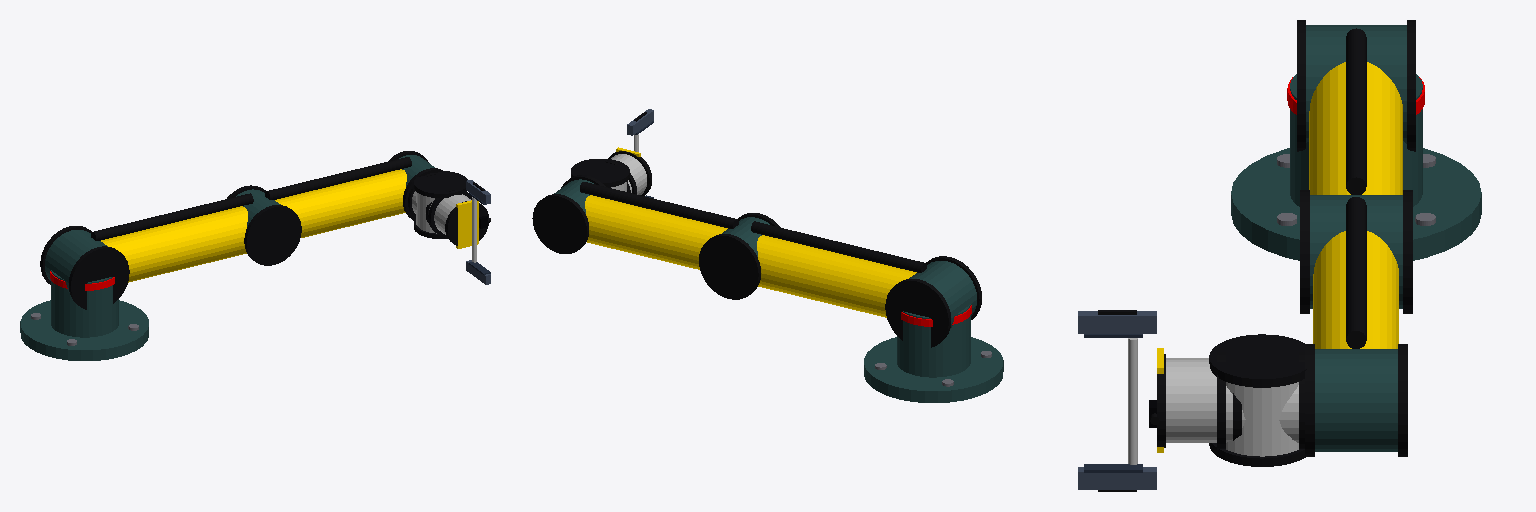
The robot description file, URDF, robot "hydraulic_arm":
<?xml version="1.0"?>
<!-- generated by sim/gazebo_arm/gazebo_arm/gen_urdf.py from the numerical twin DH/mass/inertia; do not edit by hand -->
<robot name="hydraulic_arm">
  <link name="base_link">
    <inertial>
      <origin xyz="0 0 0.0900" rpy="0 0 0"/>
      <mass value="20.000"/>
      <inertia ixx="0.20000" ixy="0" ixz="0" iyy="0.20000" iyz="0" izz="0.30000"/>
    </inertial>
    <visual>
      <origin xyz="0 0 0.015" rpy="0 0 0"/>
      <geometry><cylinder radius="0.160" length="0.0300"/></geometry>
      <material name="base"><color rgba="0.184 0.310 0.310 1"/></material>
    </visual>
    <visual>
      <origin xyz="0 0 0.0900" rpy="0 0 0"/>
      <geometry><cylinder radius="0.085" length="0.1800"/></geometry>
      <material name="base"><color rgba="0.184 0.310 0.310 1"/></material>
    </visual>
    <visual>
      <origin xyz="0 0 0.1680" rpy="0 0 0"/>
      <geometry><cylinder radius="0.088" length="0.0180"/></geometry>
      <material name="warn"><color rgba="1.000 0.000 0.000 1"/></material>
    </visual>
    <visual>
      <origin xyz="0.0884 0.0884 0.026" rpy="0 0 0"/>
      <geometry><cylinder radius="0.013" length="0.0220"/></geometry>
      <material name="bolt"><color rgba="0.450 0.450 0.480 1"/></material>
    </visual>
    <visual>
      <origin xyz="-0.0884 0.0884 0.026" rpy="0 0 0"/>
      <geometry><cylinder radius="0.013" length="0.0220"/></geometry>
      <material name="bolt"><color rgba="0.450 0.450 0.480 1"/></material>
    </visual>
    <visual>
      <origin xyz="-0.0884 -0.0884 0.026" rpy="0 0 0"/>
      <geometry><cylinder radius="0.013" length="0.0220"/></geometry>
      <material name="bolt"><color rgba="0.450 0.450 0.480 1"/></material>
    </visual>
    <visual>
      <origin xyz="0.0884 -0.0884 0.026" rpy="0 0 0"/>
      <geometry><cylinder radius="0.013" length="0.0220"/></geometry>
      <material name="bolt"><color rgba="0.450 0.450 0.480 1"/></material>
    </visual>
    <collision>
      <origin xyz="0 0 0.0900" rpy="0 0 0"/>
      <geometry><cylinder radius="0.105" length="0.1800"/></geometry>
    </collision>
  </link>
  <joint name="joint_1" type="revolute">
    <parent link="base_link"/>
    <child link="link_1"/>
    <origin xyz="0.0000 0 0.1800" rpy="1.570796 0 0"/>
    <axis xyz="0 0 1"/>
    <limit lower="-3.1416" upper="3.1416" effort="954.9" velocity="2.0"/>
    <dynamics damping="10.0" friction="1.0"/>
  </joint>
  <link name="link_1">
    <inertial>
      <origin xyz="0.0000 0.0900 0.0000" rpy="0 0 0"/>
      <mass value="110.000"/>
      <inertia ixx="2.0000" ixy="0" ixz="0" iyy="2.0000" iyz="0" izz="3.0000"/>
    </inertial>
    <visual>
      <origin xyz="0 0 0" rpy="0 0 0"/>
      <geometry><cylinder radius="0.078" length="0.1404"/></geometry>
      <material name="joint"><color rgba="0.184 0.310 0.310 1"/></material>
    </visual>
    <visual>
      <origin xyz="0 0 0.0702" rpy="0 0 0"/>
      <geometry><cylinder radius="0.084" length="0.0120"/></geometry>
      <material name="black"><color rgba="0.090 0.090 0.100 1"/></material>
    </visual>
    <visual>
      <origin xyz="0 0 -0.0702" rpy="0 0 0"/>
      <geometry><cylinder radius="0.084" length="0.0120"/></geometry>
      <material name="black"><color rgba="0.090 0.090 0.100 1"/></material>
    </visual>
    <visual>
      <origin xyz="0.2500 0 0.0000" rpy="0 1.570796 0"/>
      <geometry><cylinder radius="0.060" length="0.5000"/></geometry>
      <material name="body"><color rgba="1.000 0.843 0.000 1"/></material>
    </visual>
    <visual>
      <origin xyz="0.2500 0.0800 0.0000" rpy="0 1.570796 0"/>
      <geometry><cylinder radius="0.013" length="0.4500"/></geometry>
      <material name="black"><color rgba="0.090 0.090 0.100 1"/></material>
    </visual>
    <collision>
      <origin xyz="0.2500 0 0.0000" rpy="0 1.570796 0"/>
      <geometry><cylinder radius="0.080" length="0.5000"/></geometry>
    </collision>
    <collision>
      <origin xyz="0 0 0" rpy="0 0 0"/>
      <geometry><sphere radius="0.080"/></geometry>
    </collision>
    <collision>
      <origin xyz="0.5000 0 0.0000" rpy="0 0 0"/>
      <geometry><sphere radius="0.080"/></geometry>
    </collision>
  </link>
  <joint name="joint_2" type="revolute">
    <parent link="link_1"/>
    <child link="link_2"/>
    <origin xyz="0.5000 0 0.0000" rpy="0.000000 0 0"/>
    <axis xyz="0 0 1"/>
    <limit lower="-3.1416" upper="3.1416" effort="1527.9" velocity="2.0"/>
    <dynamics damping="10.0" friction="1.0"/>
  </joint>
  <link name="link_2">
    <inertial>
      <origin xyz="0.2500 0.0000 0.0000" rpy="0 0 0"/>
      <mass value="55.000"/>
      <inertia ixx="0.3000" ixy="0" ixz="0" iyy="1.1460" iyz="0" izz="1.1460"/>
    </inertial>
    <visual>
      <origin xyz="0 0 0" rpy="0 0 0"/>
      <geometry><cylinder radius="0.073" length="0.1314"/></geometry>
      <material name="joint"><color rgba="0.184 0.310 0.310 1"/></material>
    </visual>
    <visual>
      <origin xyz="0 0 0.0657" rpy="0 0 0"/>
      <geometry><cylinder radius="0.079" length="0.0120"/></geometry>
      <material name="black"><color rgba="0.090 0.090 0.100 1"/></material>
    </visual>
    <visual>
      <origin xyz="0 0 -0.0657" rpy="0 0 0"/>
      <geometry><cylinder radius="0.079" length="0.0120"/></geometry>
      <material name="black"><color rgba="0.090 0.090 0.100 1"/></material>
    </visual>
    <visual>
      <origin xyz="0.2250 0 0.0000" rpy="0 1.570796 0"/>
      <geometry><cylinder radius="0.055" length="0.4500"/></geometry>
      <material name="body"><color rgba="1.000 0.843 0.000 1"/></material>
    </visual>
    <visual>
      <origin xyz="0.2250 0.0750 0.0000" rpy="0 1.570796 0"/>
      <geometry><cylinder radius="0.013" length="0.4050"/></geometry>
      <material name="black"><color rgba="0.090 0.090 0.100 1"/></material>
    </visual>
    <collision>
      <origin xyz="0.2250 0 0.0000" rpy="0 1.570796 0"/>
      <geometry><cylinder radius="0.075" length="0.4500"/></geometry>
    </collision>
    <collision>
      <origin xyz="0 0 0" rpy="0 0 0"/>
      <geometry><sphere radius="0.075"/></geometry>
    </collision>
    <collision>
      <origin xyz="0.4500 0 0.0000" rpy="0 0 0"/>
      <geometry><sphere radius="0.075"/></geometry>
    </collision>
  </link>
  <joint name="joint_3" type="revolute">
    <parent link="link_2"/>
    <child link="link_3"/>
    <origin xyz="0.4500 0 0.0000" rpy="0.000000 0 0"/>
    <axis xyz="0 0 1"/>
    <limit lower="-3.1416" upper="3.1416" effort="611.2" velocity="2.0"/>
    <dynamics damping="10.0" friction="1.0"/>
  </joint>
  <link name="link_3">
    <inertial>
      <origin xyz="0.2250 0.0000 0.0000" rpy="0 0 0"/>
      <mass value="32.000"/>
      <inertia ixx="0.1200" ixy="0" ixz="0" iyy="0.5400" iyz="0" izz="0.5400"/>
    </inertial>
    <visual>
      <origin xyz="0 0 0" rpy="0 0 0"/>
      <geometry><cylinder radius="0.066" length="0.1188"/></geometry>
      <material name="joint"><color rgba="0.184 0.310 0.310 1"/></material>
    </visual>
    <visual>
      <origin xyz="0 0 0.0594" rpy="0 0 0"/>
      <geometry><cylinder radius="0.072" length="0.0120"/></geometry>
      <material name="black"><color rgba="0.090 0.090 0.100 1"/></material>
    </visual>
    <visual>
      <origin xyz="0 0 -0.0594" rpy="0 0 0"/>
      <geometry><cylinder radius="0.072" length="0.0120"/></geometry>
      <material name="black"><color rgba="0.090 0.090 0.100 1"/></material>
    </visual>
    <visual>
      <origin xyz="0.0000 0 0.0600" rpy="0 0.000000 0"/>
      <geometry><cylinder radius="0.048" length="0.1200"/></geometry>
      <material name="body"><color rgba="1.000 0.843 0.000 1"/></material>
    </visual>
    <collision>
      <origin xyz="0.0000 0 0.0600" rpy="0 0.000000 0"/>
      <geometry><cylinder radius="0.068" length="0.1200"/></geometry>
    </collision>
    <collision>
      <origin xyz="0 0 0" rpy="0 0 0"/>
      <geometry><sphere radius="0.068"/></geometry>
    </collision>
    <collision>
      <origin xyz="0.0000 0 0.1200" rpy="0 0 0"/>
      <geometry><sphere radius="0.068"/></geometry>
    </collision>
  </link>
  <joint name="joint_4" type="revolute">
    <parent link="link_3"/>
    <child link="link_4"/>
    <origin xyz="0.0000 0 0.1200" rpy="1.570796 0 0"/>
    <axis xyz="0 0 1"/>
    <limit lower="-3.1416" upper="3.1416" effort="191.0" velocity="2.0"/>
    <dynamics damping="10.0" friction="1.0"/>
  </joint>
  <link name="link_4">
    <inertial>
      <origin xyz="0.0000 0.0000 0.0300" rpy="0 0 0"/>
      <mass value="12.000"/>
      <inertia ixx="0.0200" ixy="0" ixz="0" iyy="0.0200" iyz="0" izz="0.0250"/>
    </inertial>
    <visual>
      <origin xyz="0 0 0" rpy="0 0 0"/>
      <geometry><cylinder radius="0.062" length="0.1116"/></geometry>
      <material name="wrist"><color rgba="0.753 0.753 0.753 1"/></material>
    </visual>
    <visual>
      <origin xyz="0 0 0.0558" rpy="0 0 0"/>
      <geometry><cylinder radius="0.068" length="0.0120"/></geometry>
      <material name="black"><color rgba="0.090 0.090 0.100 1"/></material>
    </visual>
    <visual>
      <origin xyz="0 0 -0.0558" rpy="0 0 0"/>
      <geometry><cylinder radius="0.068" length="0.0120"/></geometry>
      <material name="black"><color rgba="0.090 0.090 0.100 1"/></material>
    </visual>
    <collision>
      <origin xyz="0 0 0" rpy="0 0 0"/>
      <geometry><sphere radius="0.072"/></geometry>
    </collision>
  </link>
  <joint name="joint_5" type="revolute">
    <parent link="link_4"/>
    <child link="link_5"/>
    <origin xyz="0.0000 0 0.0000" rpy="-1.570796 0 0"/>
    <axis xyz="0 0 1"/>
    <limit lower="-3.1416" upper="3.1416" effort="152.8" velocity="2.0"/>
    <dynamics damping="10.0" friction="1.0"/>
  </joint>
  <link name="link_5">
    <inertial>
      <origin xyz="0.0000 0.0000 0.0200" rpy="0 0 0"/>
      <mass value="6.000"/>
      <inertia ixx="0.0080" ixy="0" ixz="0" iyy="0.0080" iyz="0" izz="0.0100"/>
    </inertial>
    <visual>
      <origin xyz="0 0 0" rpy="0 0 0"/>
      <geometry><cylinder radius="0.058" length="0.1044"/></geometry>
      <material name="wrist"><color rgba="0.753 0.753 0.753 1"/></material>
    </visual>
    <visual>
      <origin xyz="0 0 0.0522" rpy="0 0 0"/>
      <geometry><cylinder radius="0.064" length="0.0120"/></geometry>
      <material name="black"><color rgba="0.090 0.090 0.100 1"/></material>
    </visual>
    <visual>
      <origin xyz="0 0 -0.0522" rpy="0 0 0"/>
      <geometry><cylinder radius="0.064" length="0.0120"/></geometry>
      <material name="black"><color rgba="0.090 0.090 0.100 1"/></material>
    </visual>
    <visual>
      <origin xyz="0.0000 0 0.0400" rpy="0 0.000000 0"/>
      <geometry><cylinder radius="0.040" length="0.0800"/></geometry>
      <material name="wrist"><color rgba="0.753 0.753 0.753 1"/></material>
    </visual>
    <collision>
      <origin xyz="0.0000 0 0.0400" rpy="0 0.000000 0"/>
      <geometry><cylinder radius="0.060" length="0.0800"/></geometry>
    </collision>
    <collision>
      <origin xyz="0 0 0" rpy="0 0 0"/>
      <geometry><sphere radius="0.060"/></geometry>
    </collision>
    <collision>
      <origin xyz="0.0000 0 0.0800" rpy="0 0 0"/>
      <geometry><sphere radius="0.060"/></geometry>
    </collision>
  </link>
  <joint name="joint_6" type="revolute">
    <parent link="link_5"/>
    <child link="link_6"/>
    <origin xyz="0.0000 0 0.0800" rpy="0.000000 0 0"/>
    <axis xyz="0 0 1"/>
    <limit lower="-3.1416" upper="3.1416" effort="114.6" velocity="2.0"/>
    <dynamics damping="10.0" friction="1.0"/>
  </joint>
  <link name="link_6">
    <inertial>
      <origin xyz="0.0000 0.0000 0.0300" rpy="0 0 0"/>
      <mass value="5.000"/>
      <inertia ixx="0.0050" ixy="0" ixz="0" iyy="0.0050" iyz="0" izz="0.0070"/>
    </inertial>
    <visual>
      <origin xyz="0 0 0" rpy="0 0 0"/>
      <geometry><cylinder radius="0.054" length="0.0972"/></geometry>
      <material name="wrist"><color rgba="0.753 0.753 0.753 1"/></material>
    </visual>
    <visual>
      <origin xyz="0 0 0.0486" rpy="0 0 0"/>
      <geometry><cylinder radius="0.060" length="0.0120"/></geometry>
      <material name="black"><color rgba="0.090 0.090 0.100 1"/></material>
    </visual>
    <visual>
      <origin xyz="0 0 -0.0486" rpy="0 0 0"/>
      <geometry><cylinder radius="0.060" length="0.0120"/></geometry>
      <material name="black"><color rgba="0.090 0.090 0.100 1"/></material>
    </visual>
    <visual>
      <origin xyz="0 0 0.006" rpy="0 0 0"/>
      <geometry><box size="0.050 0.050 0.014"/></geometry>
      <material name="sensor"><color rgba="0.160 0.280 0.500 1"/></material>
    </visual>
    <visual>
      <origin xyz="0 0 0.025" rpy="0 0 0"/>
      <geometry><cylinder radius="0.030" length="0.0300"/></geometry>
      <material name="wrist"><color rgba="0.753 0.753 0.753 1"/></material>
    </visual>
    <collision>
      <origin xyz="0 0 0.02" rpy="0 0 0"/>
      <geometry><cylinder radius="0.045" length="0.0600"/></geometry>
    </collision>
  </link>
  <joint name="gripper_base_joint" type="fixed">
    <parent link="link_6"/>
    <child link="gripper_base"/>
    <origin xyz="0 0 0.045" rpy="0 0 0"/>
  </joint>
  <link name="gripper_base">
    <inertial>
      <origin xyz="0 0 0" rpy="0 0 0"/>
      <mass value="1.500"/>
      <inertia ixx="0.00300" ixy="0" ixz="0" iyy="0.00300" iyz="0" izz="0.00400"/>
    </inertial>
    <visual>
      <origin xyz="0 0 0.005" rpy="0 0 0"/>
      <geometry><box size="0.060 0.120 0.010"/></geometry>
      <material name="body"><color rgba="1.000 0.843 0.000 1"/></material>
    </visual>
    <visual>
      <origin xyz="0 0 0.040" rpy="1.5708 0 0"/>
      <geometry><cylinder radius="0.006" length="0.1760"/></geometry>
      <material name="wrist"><color rgba="0.753 0.753 0.753 1"/></material>
    </visual>
    <visual>
      <origin xyz="0.040 0 0.012" rpy="0 0 0"/>
      <geometry><box size="0.022 0.028 0.016"/></geometry>
      <material name="camera"><color rgba="0.050 0.050 0.060 1"/></material>
    </visual>
    <visual>
      <origin xyz="0.056 0 0.012" rpy="0 1.5708 0"/>
      <geometry><cylinder radius="0.006" length="0.0100"/></geometry>
      <material name="black"><color rgba="0.090 0.090 0.100 1"/></material>
    </visual>
    <collision>
      <origin xyz="0 0 0.006" rpy="1.5708 0 0"/>
      <geometry><cylinder radius="0.070" length="0.0120"/></geometry>
    </collision>
  </link>
  <joint name="finger_right_joint" type="fixed">
    <parent link="gripper_base"/>
    <child link="finger_right"/>
    <origin xyz="0 0.1100 0.010" rpy="0 0 0"/>
  </joint>
  <link name="finger_right">
    <inertial>
      <origin xyz="0 0 0.0500" rpy="0 0 0"/>
      <mass value="0.300"/>
      <inertia ixx="0.00040" ixy="0" ixz="0" iyy="0.00040" iyz="0" izz="0.00010"/>
    </inertial>
    <visual>
      <origin xyz="0 0 0.0500" rpy="0 0 0"/>
      <geometry><box size="0.015 0.025 0.100"/></geometry>
      <material name="finger"><color rgba="0.290 0.333 0.408 1"/></material>
    </visual>
    <visual>
      <origin xyz="0 0.0145 0.0500" rpy="0 0 0"/>
      <geometry><box size="0.006 0.004 0.050"/></geometry>
      <material name="black"><color rgba="0.090 0.090 0.100 1"/></material>
    </visual>
    <visual>
      <origin xyz="0 -0.0145 0.0550" rpy="0 0 0"/>
      <geometry><box size="0.020 0.004 0.075"/></geometry>
      <material name="grip_face"><color rgba="0.176 0.216 0.282 1"/></material>
    </visual>
    <collision>
      <origin xyz="0 0 0.0500" rpy="0 0 0"/>
      <geometry><cylinder radius="0.020" length="0.1000"/></geometry>
    </collision>
    <collision>
      <origin xyz="0 0 0.1000" rpy="0 0 0"/>
      <geometry><sphere radius="0.020"/></geometry>
    </collision>
  </link>
  <joint name="finger_left_joint" type="fixed">
    <parent link="gripper_base"/>
    <child link="finger_left"/>
    <origin xyz="0 -0.1100 0.010" rpy="0 0 0"/>
  </joint>
  <link name="finger_left">
    <inertial>
      <origin xyz="0 0 0.0500" rpy="0 0 0"/>
      <mass value="0.300"/>
      <inertia ixx="0.00040" ixy="0" ixz="0" iyy="0.00040" iyz="0" izz="0.00010"/>
    </inertial>
    <visual>
      <origin xyz="0 0 0.0500" rpy="0 0 0"/>
      <geometry><box size="0.015 0.025 0.100"/></geometry>
      <material name="finger"><color rgba="0.290 0.333 0.408 1"/></material>
    </visual>
    <visual>
      <origin xyz="0 -0.0145 0.0500" rpy="0 0 0"/>
      <geometry><box size="0.006 0.004 0.050"/></geometry>
      <material name="black"><color rgba="0.090 0.090 0.100 1"/></material>
    </visual>
    <visual>
      <origin xyz="0 0.0145 0.0550" rpy="0 0 0"/>
      <geometry><box size="0.020 0.004 0.075"/></geometry>
      <material name="grip_face"><color rgba="0.176 0.216 0.282 1"/></material>
    </visual>
    <collision>
      <origin xyz="0 0 0.0500" rpy="0 0 0"/>
      <geometry><cylinder radius="0.020" length="0.1000"/></geometry>
    </collision>
    <collision>
      <origin xyz="0 0 0.1000" rpy="0 0 0"/>
      <geometry><sphere radius="0.020"/></geometry>
    </collision>
  </link>
</robot>

--- What the picture shows (computed from the rendered views, not written in the file) ---
3 views of the same robot in one strip: view 1: azimuth 30°, elevation 25°; view 2: azimuth 150°, elevation 25°; view 3: azimuth 270°, elevation 25° (orthographic).
Robot: hydraulic_arm — 10 links, 9 joints (6 revolute, 3 fixed); root link base_link; default pose: all joints at 0.
Links seen in each view (by area): view 1: link_1, link_2, base_link, link_4, gripper_base, link_6, link_3; view 2: link_1, link_2, base_link, link_3, link_4, link_6; view 3: link_1, link_2, base_link, link_3, link_4, link_6, link_5, finger_right, finger_left, gripper_base.
Link boxes in pixels (x1,y1,x2,y2): link_1: (40, 193, 253, 309); link_2: (227, 157, 411, 265); base_link: (20, 270, 148, 360); link_4: (414, 171, 467, 238); gripper_base: (456, 197, 490, 262); link_6: (426, 194, 488, 245); link_3: (389, 151, 442, 220); link_1: (751, 221, 981, 347); link_2: (580, 182, 780, 299); base_link: (864, 304, 1003, 402); link_3: (532, 175, 605, 253); link_4: (571, 159, 629, 191); link_6: (608, 151, 651, 195); link_1: (1297, 20, 1415, 194); link_2: (1300, 190, 1412, 348); base_link: (1231, 74, 1481, 260); link_3: (1305, 344, 1407, 456); link_4: (1209, 334, 1306, 466); link_6: (1157, 354, 1241, 447); link_5: (1217, 352, 1304, 449); finger_right: (1078, 310, 1156, 337); finger_left: (1078, 464, 1156, 491); gripper_base: (1128, 338, 1163, 464).
Bounding box of the posed robot: 1.18 × 0.515 × 0.3065 m (x, y, z).
Geometry: primitives only (box / cylinder / sphere), no mesh files.
